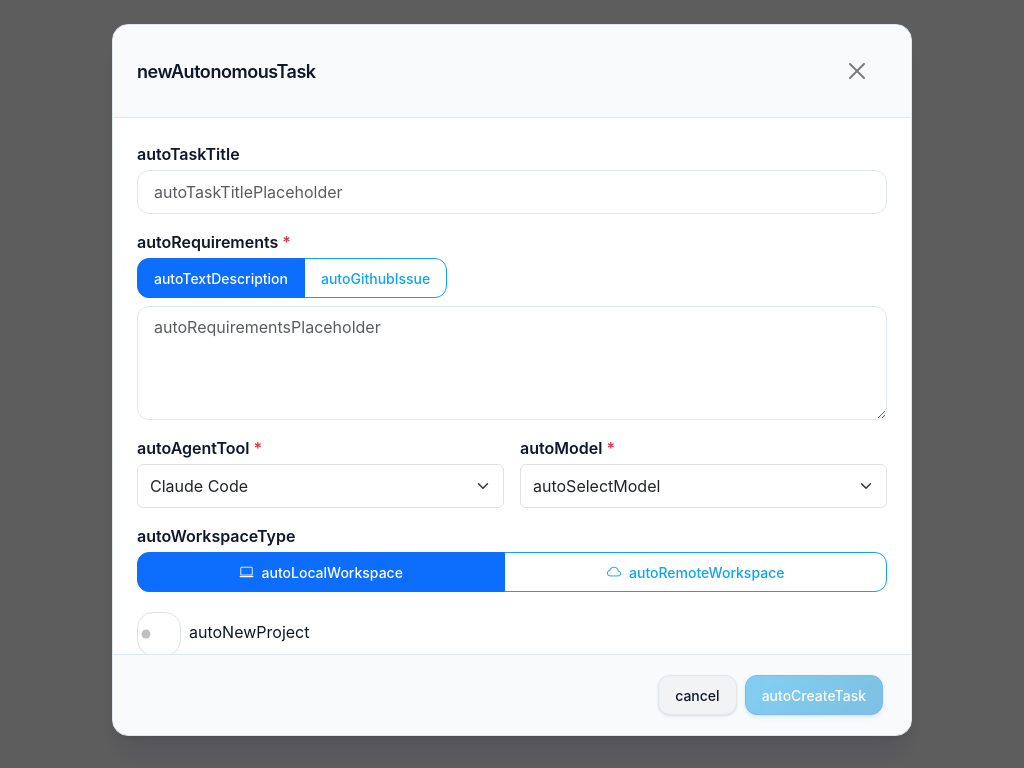
Test case: NewAutonomousModal › auto-merge toggle in URL batch mode › renders the auto-merge option as a switch matching the other toggles
Type "830" into the text box with placeholder "autoRequirementsPlaceholder". click: (512, 363)
box: [137,306,887,420]
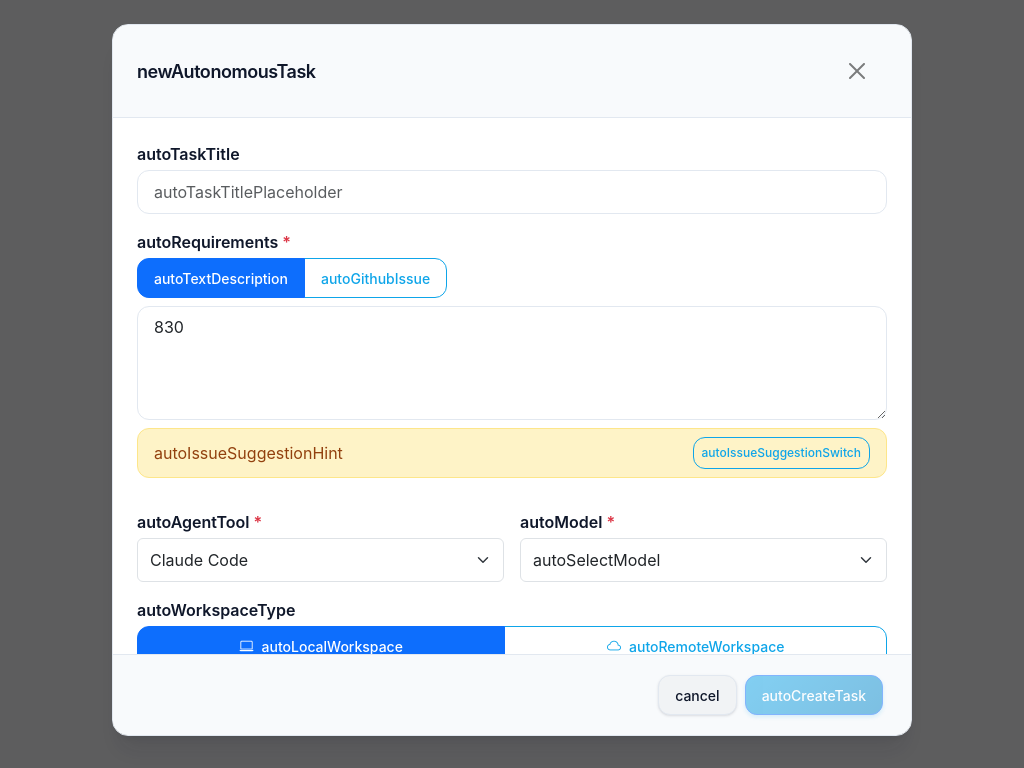
Click the button "autoIssueSuggestionSwitch". click: (781, 453)
box: [692,437,870,469]
(page scrolled)
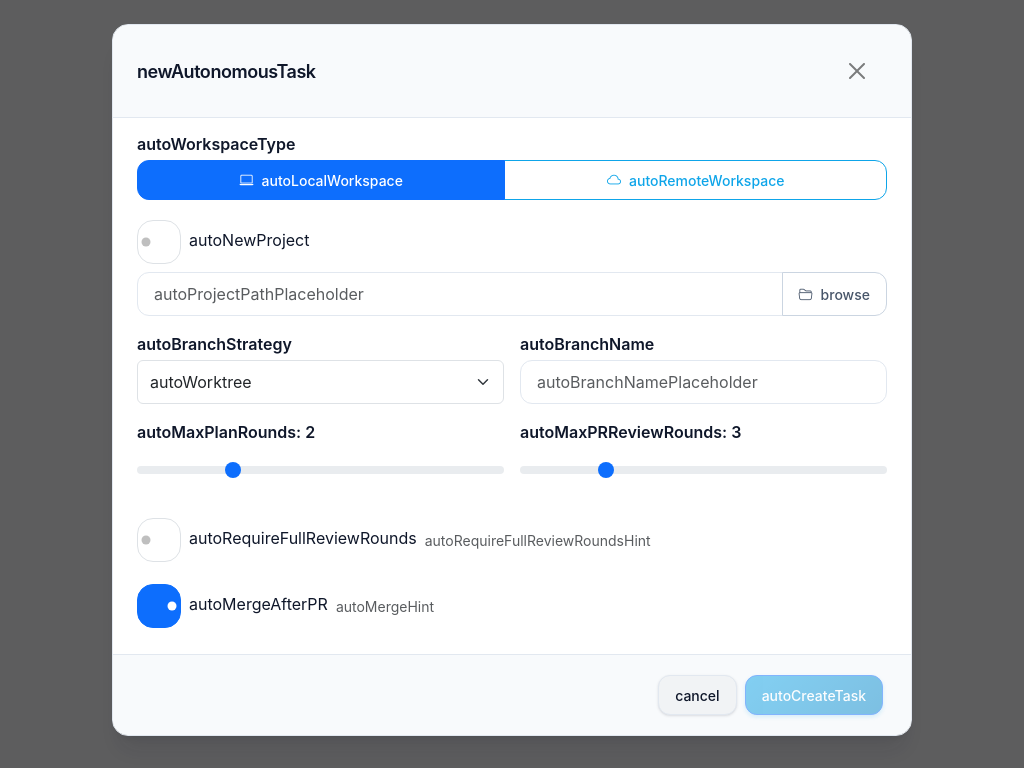
Expected: the element labelled "autoMergeAfterPR" is shown, [137,584,434,628]
